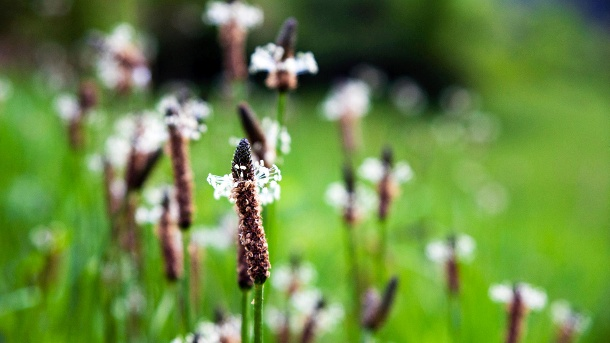buckhorn plantain: (211, 128, 329, 330)
